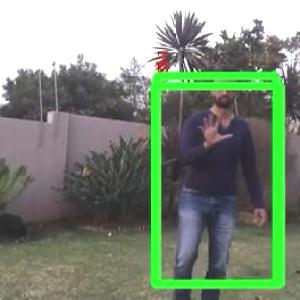follow_hand: (195, 109, 233, 148)
